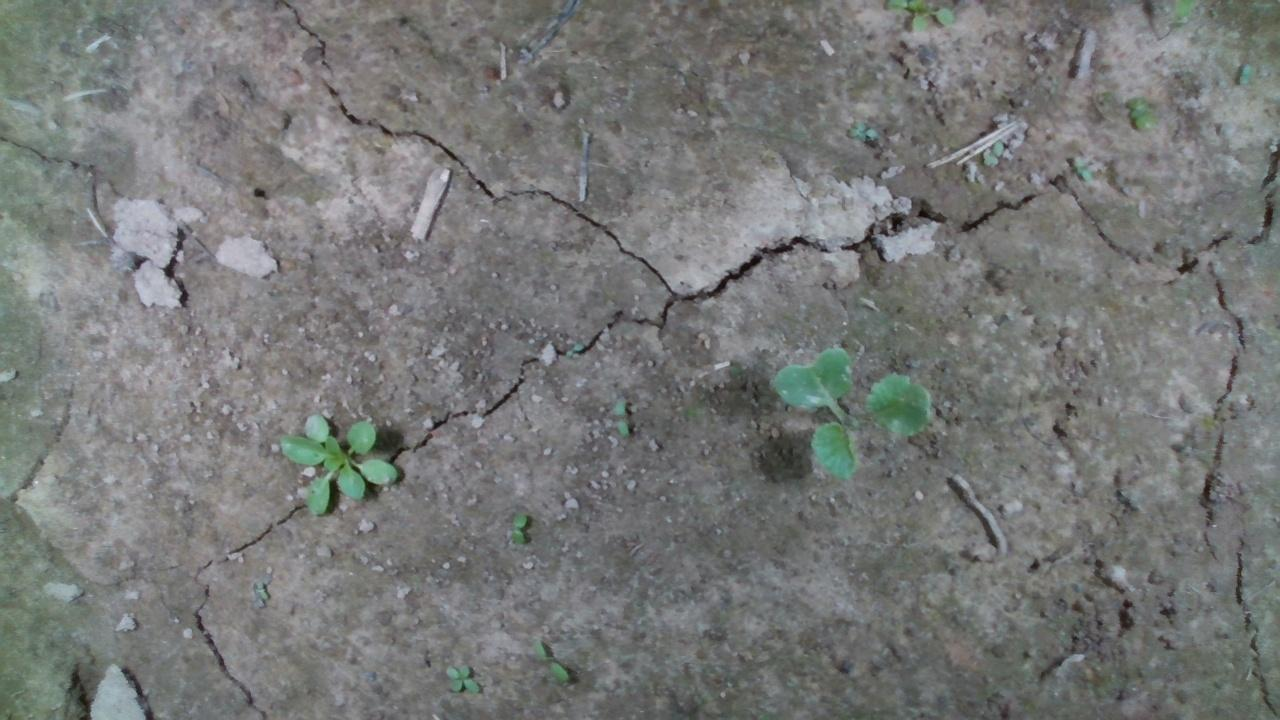weed: (531, 637, 569, 683), (445, 661, 481, 694), (1124, 94, 1154, 132), (843, 113, 876, 142), (509, 509, 529, 546), (612, 397, 630, 436), (1236, 59, 1254, 88)
